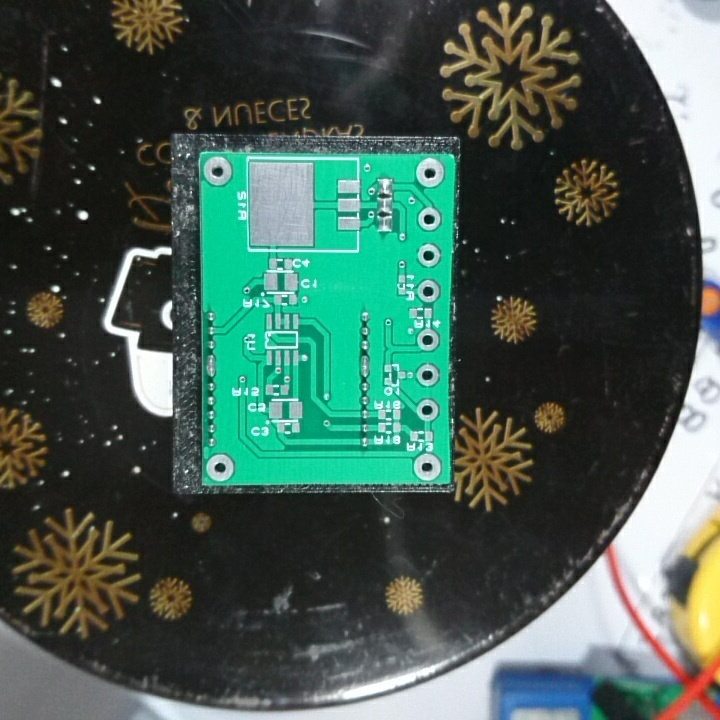F: (414, 157, 446, 191), (202, 154, 233, 188), (412, 449, 441, 482), (414, 361, 444, 391), (416, 203, 444, 235), (204, 453, 237, 480), (416, 240, 444, 270), (416, 395, 443, 423), (414, 323, 437, 354), (415, 278, 442, 304)
P: (203, 352, 223, 378), (356, 354, 376, 378)
